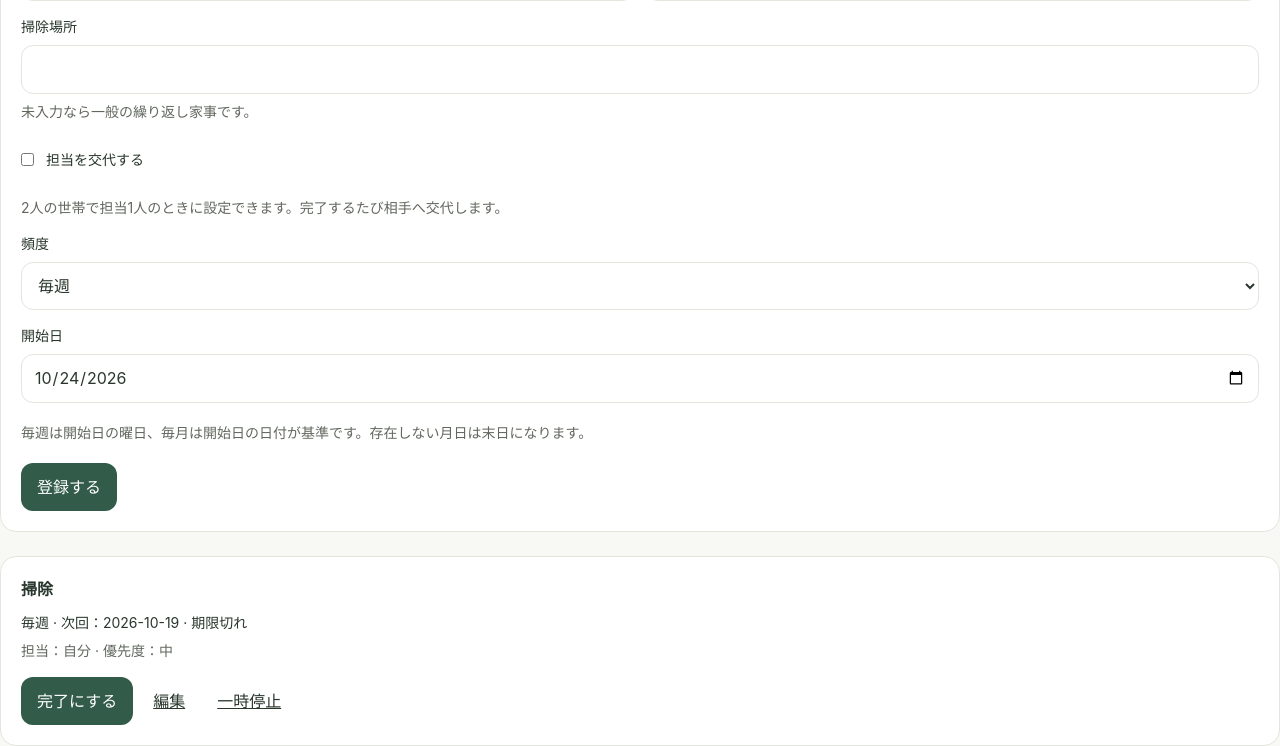
Test: 編集は選んだ版を保ち、次回予定を確認させ、失敗しても下書きを保持する
The image size is (1280, 746).
(page scrolled)
Click the button with aria-label "編集：掃除".
click(169, 700)  # box [141,676,197,724]
(page scrolled)
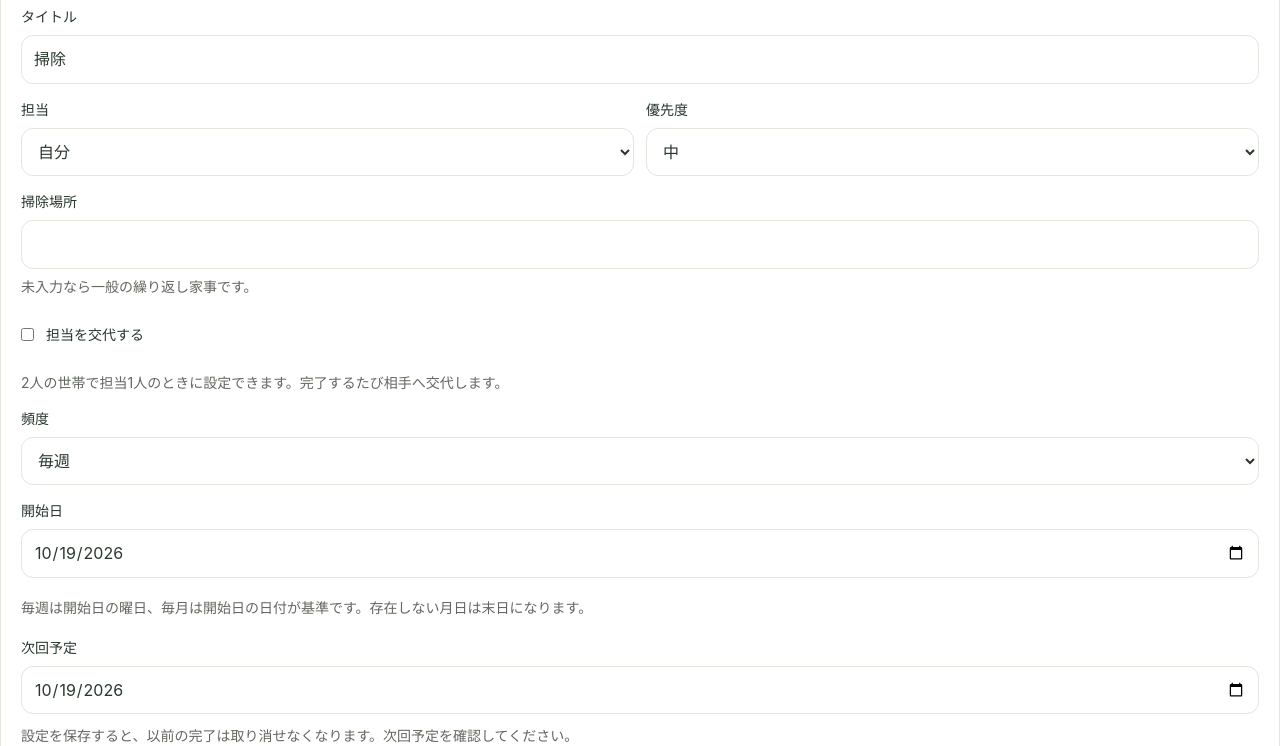
Now the date field labelled "次回予定" holds "2026-10-19", box [21,666,1259,714]
Replace the text in the field labelled "タイトル" with "編集中" at coordinates (640, 59), box [21,35,1259,84]
(page scrolled)
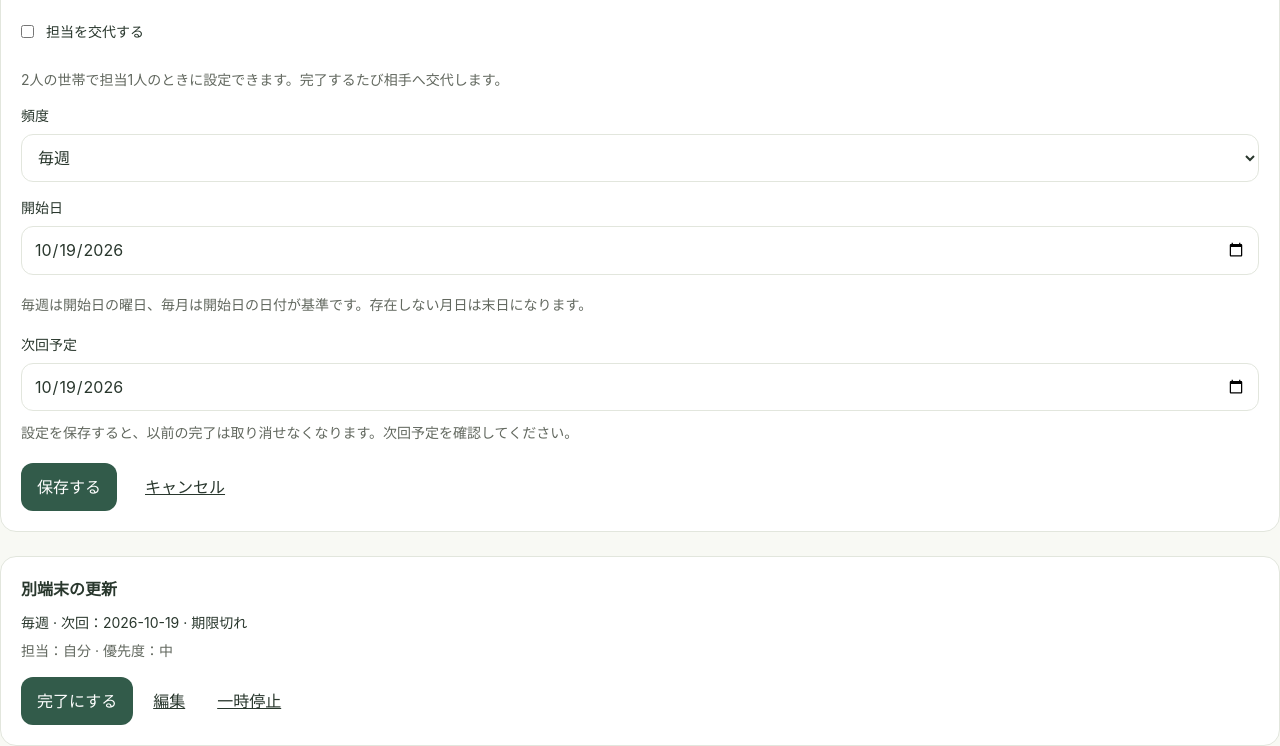
Click the button "保存する".
click(69, 487)  # box [21,463,117,511]
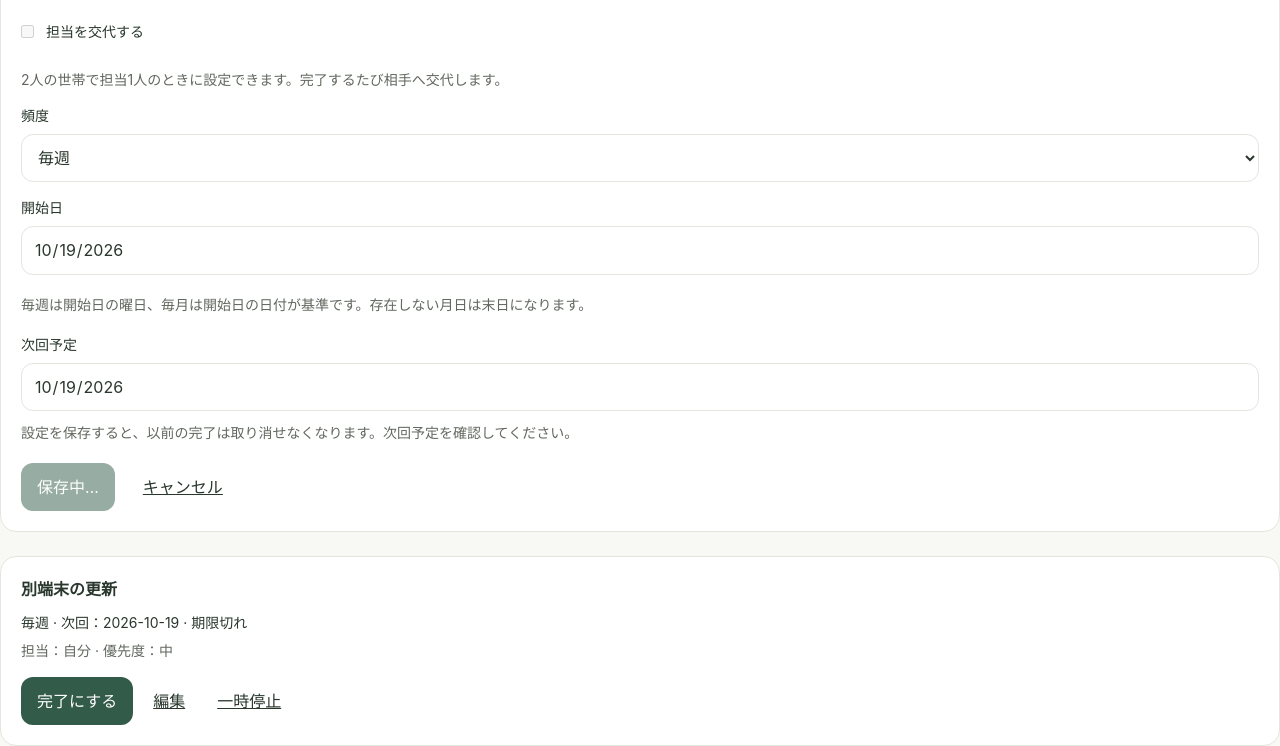
Click the button "キャンセル".
click(183, 487)  # box [127,463,239,511]
(page scrolled)
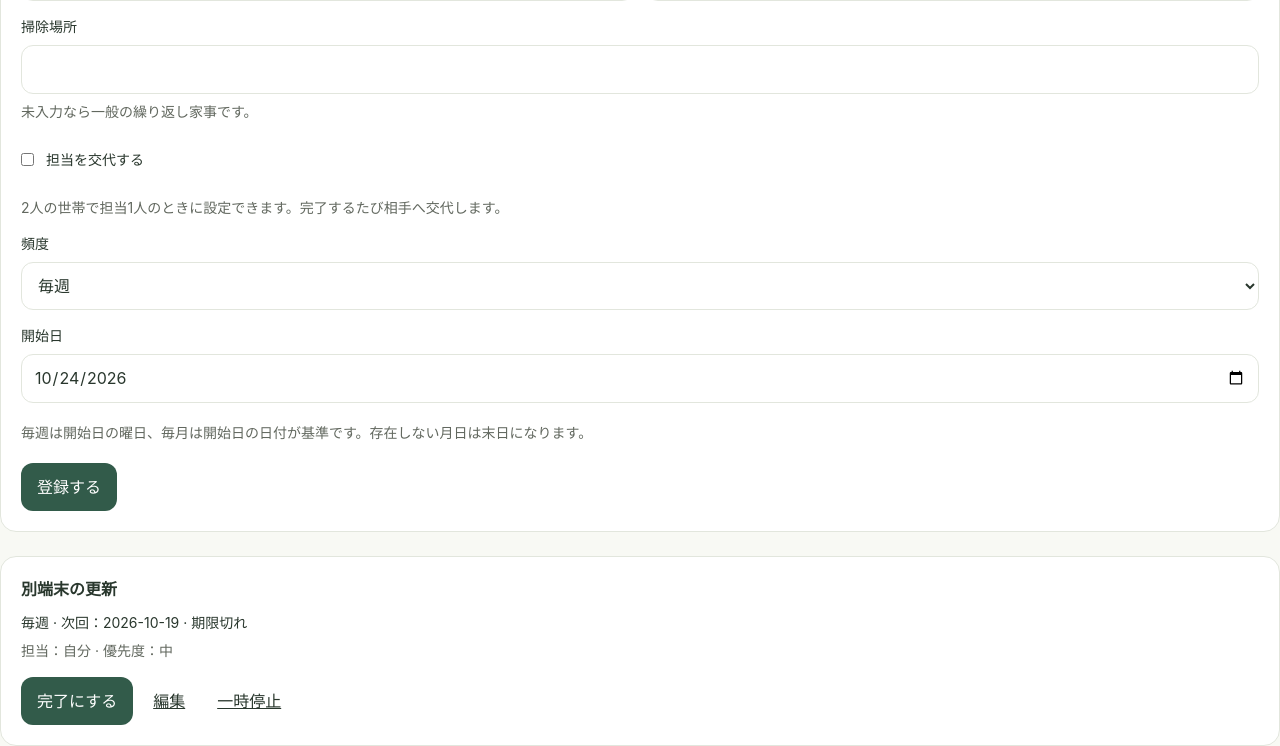
Now the text labelled "次回予定" is gone
